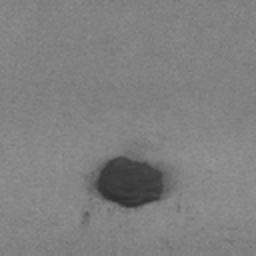Iron sheet ash: (92, 154, 168, 210), (82, 210, 92, 219)
